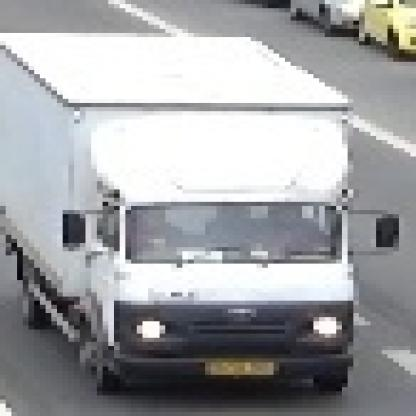truck: (1, 30, 394, 413)
